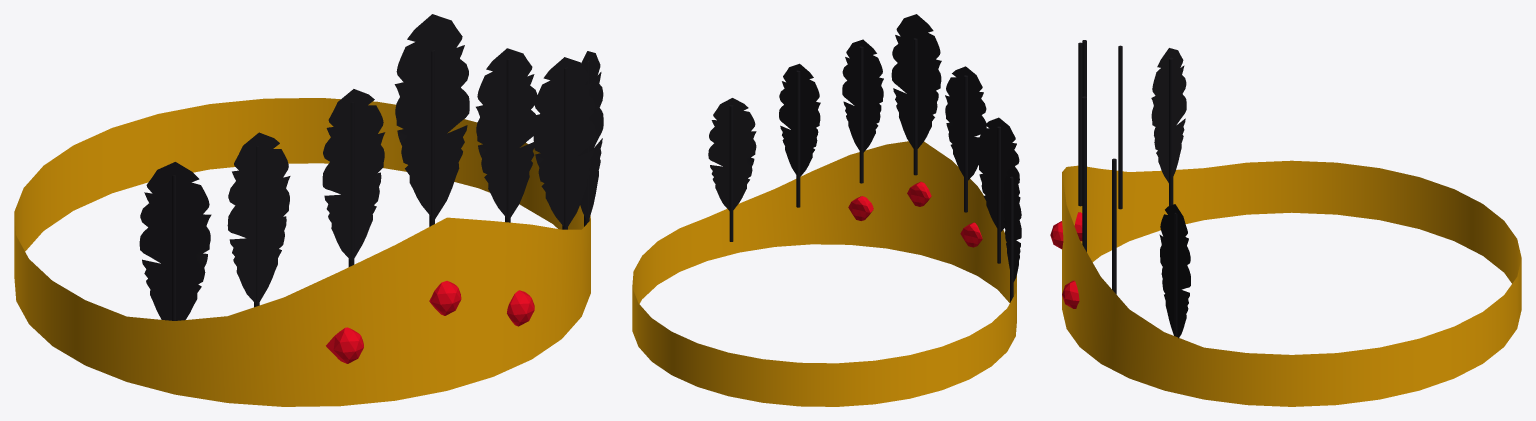
File: Topi Honai aja.fbx
The picture shows the model from 3 angles, left to right: view 1: azimuth 30°, elevation 25°; view 2: azimuth 150°, elevation 25°; view 3: azimuth 270°, elevation 25°; orthographic projection. The views are drawn at different scales.
Parts seen in each view (by area): view 1: permata.007; view 2: permata.007; view 3: permata.007.
Part boxes in pixels (<box>): permata.007: <box>14,14,603,406</box>; permata.007: <box>632,14,1021,406</box>; permata.007: <box>1050,40,1521,406</box>.
Size of the model in its own units: 138 by 97.23 by 141.
